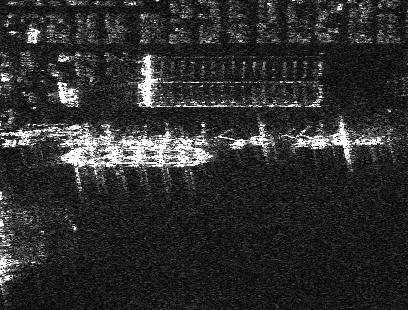ship: (58, 142, 212, 168)
